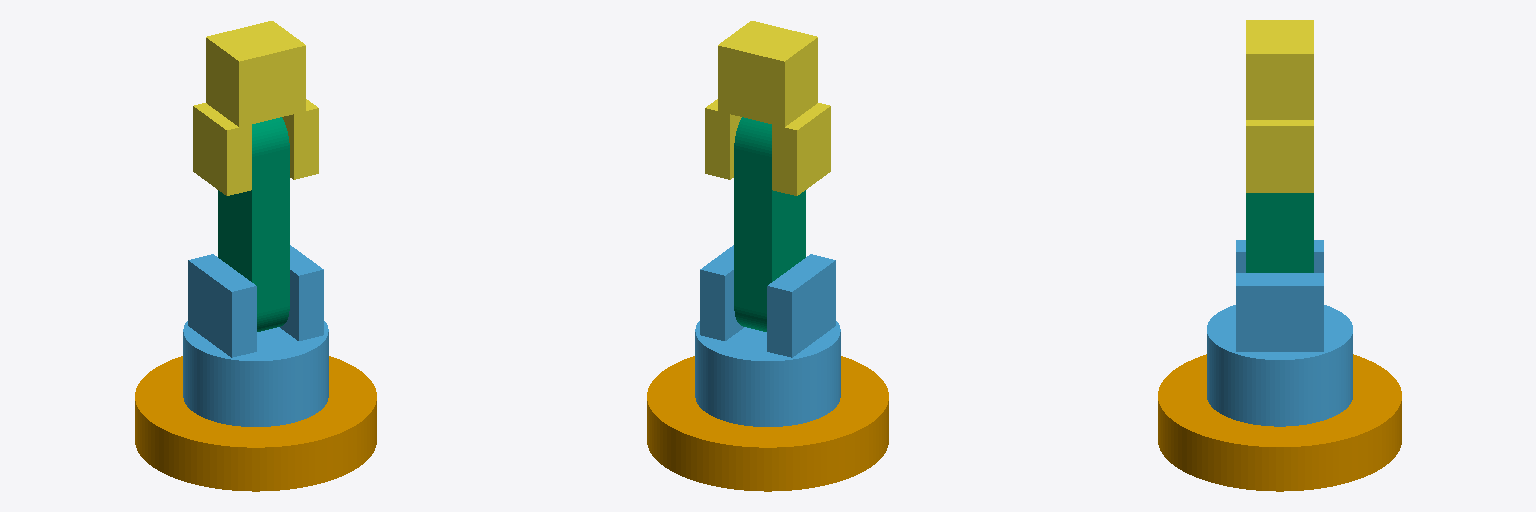
The robot description file, URDF, robot "URDF":
<?xml version="1.0" ?>
<robot name="URDF">

  <link name="base_link">
    <inertial>
      <origin xyz="-3.618764437576268e-18 -7.237528875152536e-18 0.005" rpy="0 0 0"/>
      <mass value="0.1541343895667492"/>
      <inertia ixx="2.5e-05" iyy="2.5e-05" izz="4.8e-05" ixy="-0.0" iyz="-0.0" ixz="0.0"/>
    </inertial>
    <visual>
      <origin xyz="0 0 0" rpy="0 0 0"/>
      <geometry>
        <mesh filename="meshes/base_link.stl" scale="0.001 0.001 0.001"/>
      </geometry>
      <material name="silver"/>
    </visual>
    <collision>
      <origin xyz="0 0 0" rpy="0 0 0"/>
      <geometry>
        <mesh filename="meshes/base_link.stl" scale="0.001 0.001 0.001"/>
      </geometry>
    </collision>
  </link>

  <link name="FIrst_1">
    <inertial>
      <origin xyz="2.5664564631150837e-18 2.5664564631150837e-18 0.01101083141230629" rpy="0 0 0"/>
      <mass value="0.10866657112403685"/>
      <inertia ixx="1.2e-05" iyy="1.3e-05" izz="1.2e-05" ixy="0.0" iyz="0.0" ixz="0.0"/>
    </inertial>
    <visual>
      <origin xyz="-0.0 -0.0 -0.01" rpy="0 0 0"/>
      <geometry>
        <mesh filename="meshes/FIrst_1.stl" scale="0.001 0.001 0.001"/>
      </geometry>
      <material name="silver"/>
    </visual>
    <collision>
      <origin xyz="-0.0 -0.0 -0.01" rpy="0 0 0"/>
      <geometry>
        <mesh filename="meshes/FIrst_1.stl" scale="0.001 0.001 0.001"/>
      </geometry>
    </collision>
  </link>

  <link name="Second_1">
    <inertial>
      <origin xyz="0.004499999925494194 0.0 0.0180000002682209" rpy="0 0 0"/>
      <mass value="0.0464833239131408"/>
      <inertia ixx="9e-06" iyy="9e-06" izz="1e-06" ixy="0.0" iyz="0.0" ixz="-0.0"/>
    </inertial>
    <visual>
      <origin xyz="0.005 -0.0 -0.0325" rpy="0 0 0"/>
      <geometry>
        <mesh filename="meshes/Second_1.stl" scale="0.001 0.001 0.001"/>
      </geometry>
      <material name="silver"/>
    </visual>
    <collision>
      <origin xyz="0.005 -0.0 -0.0325" rpy="0 0 0"/>
      <geometry>
        <mesh filename="meshes/Second_1.stl" scale="0.001 0.001 0.001"/>
      </geometry>
    </collision>
  </link>

  <link name="Third_1">
    <inertial>
      <origin xyz="0.004999999999999998 -5.377406698181279e-19 0.00857142910787037" rpy="0 0 0"/>
      <mass value="0.0461580006878078"/>
      <inertia ixx="4e-06" iyy="5e-06" izz="3e-06" ixy="-0.0" iyz="0.0" ixz="-0.0"/>
    </inertial>
    <visual>
      <origin xyz="0.005 -0.0 -0.0685" rpy="0 0 0"/>
      <geometry>
        <mesh filename="meshes/Third_1.stl" scale="0.001 0.001 0.001"/>
      </geometry>
      <material name="silver"/>
    </visual>
    <collision>
      <origin xyz="0.005 -0.0 -0.0685" rpy="0 0 0"/>
      <geometry>
        <mesh filename="meshes/Third_1.stl" scale="0.001 0.001 0.001"/>
      </geometry>
    </collision>
  </link>

  <joint name="limb1_to_base_link" type="continuous">
    <origin xyz="0.0 0.0 0.01" rpy="0 0 0"/>
    <parent link="base_link"/>
    <child link="FIrst_1"/>
    <axis xyz="0.0 0.0 1.0"/>
  </joint>

  <joint name="limb2_to_limb1" type="revolute">
    <origin xyz="-0.005 0.0 0.0225" rpy="0 0 0"/>
    <parent link="FIrst_1"/>
    <child link="Second_1"/>
    <axis xyz="1.0 0.0 0.0"/>
    <limit upper="1.570796" lower="-1.570796" effort="100" velocity="100"/>
  </joint>

  <joint name="limb3_to_limb2" type="revolute">
    <origin xyz="0.0 0.0 0.036" rpy="0 0 0"/>
    <parent link="Second_1"/>
    <child link="Third_1"/>
    <axis xyz="-1.0 0.0 0.0"/>
    <limit upper="1.570796" lower="-1.570796" effort="100" velocity="100"/>
  </joint>

</robot>

--- What the picture shows (computed from the rendered views, not written in the file) ---
The picture shows the robot from 3 angles, left to right: view 1: azimuth 30°, elevation 25°; view 2: azimuth 150°, elevation 25°; view 3: azimuth 270°, elevation 25°; orthographic projection.
Model URDF with 4 links and 3 joints (2 revolute, 1 continuous), rooted at base_link, posed every joint at zero.
Links seen in each view (by area): view 1: FIrst_1, base_link, Third_1, Second_1; view 2: FIrst_1, base_link, Third_1, Second_1; view 3: base_link, FIrst_1, Third_1, Second_1.
Link boxes in pixels (<box>): FIrst_1: <box>183,245,328,426</box>; base_link: <box>135,356,376,491</box>; Third_1: <box>193,21,318,195</box>; Second_1: <box>218,117,289,331</box>; FIrst_1: <box>695,245,840,426</box>; base_link: <box>647,356,888,491</box>; Third_1: <box>705,21,830,195</box>; Second_1: <box>734,117,805,331</box>; base_link: <box>1158,354,1401,491</box>; FIrst_1: <box>1207,240,1352,426</box>; Third_1: <box>1246,20,1313,192</box>; Second_1: <box>1246,193,1313,272</box>.
Size in the robot's own frame: 0.05 by 0.05 by 0.091 metres.
Meshes: 4 distinct files referenced, 4 mesh visuals loaded (4 binary STL).